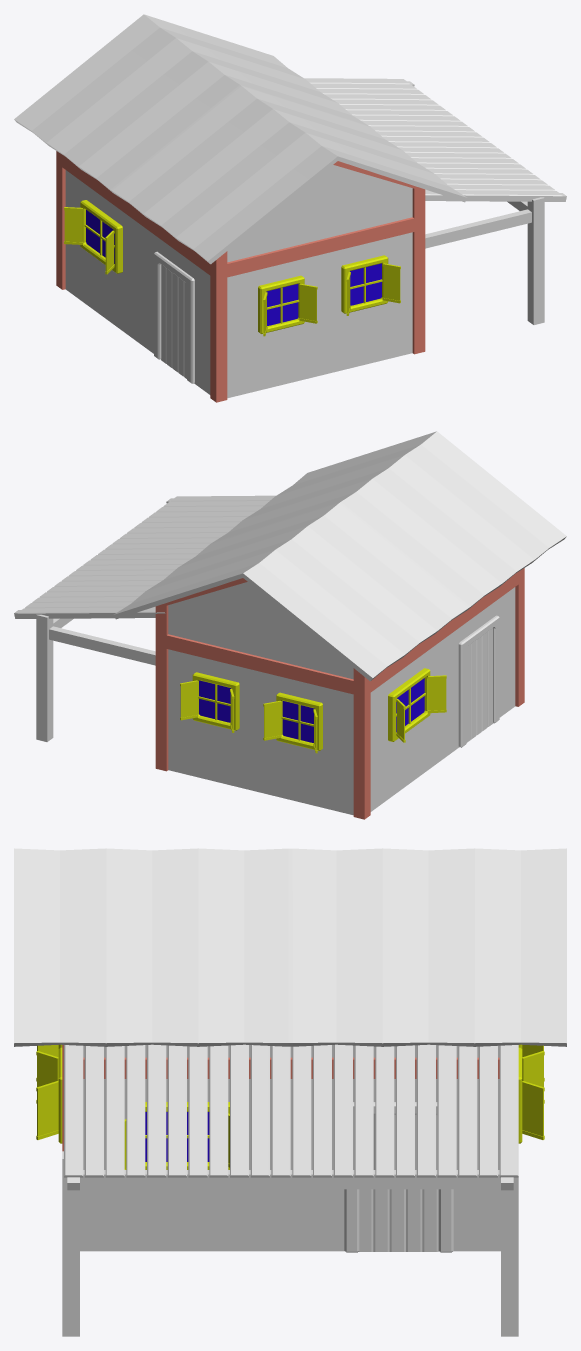
Rendered from Casa03.fbx.
The picture shows the model from 3 angles, top to bottom: view 1: azimuth 30°, elevation 25°; view 2: azimuth 150°, elevation 25°; view 3: azimuth 270°, elevation 25°; orthographic projection. The views are drawn at different scales.
Visible parts, largest first — view 1: Cube.014, Cube.013, Cube.019, Cube.021, Cube.022, Cube.026, Cube.025, Cube.016, Cube.018, Cube.020; view 2: Cube.014, Cube.013, Cube.019, Cube.021, Cube.022, Cube.026, Cube.025, Cube.015, Cube.018, Cube.020; view 3: Cube.014, Cube.019, Cube.013, Cube.023, Cube.017, Cube.026, Cube.016, Cube.015, Cube.024.
Part boxes in pixels (box(x1,y1,x2,y2)): Cube.014: box(14, 14, 467, 264); Cube.013: box(56, 151, 425, 402); Cube.019: box(304, 78, 562, 197); Cube.021: box(154, 251, 194, 383); Cube.022: box(64, 200, 122, 274); Cube.026: box(341, 255, 400, 315); Cube.025: box(258, 275, 317, 336); Cube.016: box(527, 197, 544, 324); Cube.018: box(425, 209, 531, 248); Cube.020: box(407, 81, 566, 201); Cube.014: box(113, 431, 566, 681); Cube.013: box(155, 568, 524, 819); Cube.019: box(17, 495, 275, 614); Cube.021: box(458, 615, 499, 747); Cube.022: box(388, 668, 446, 742); Cube.026: box(180, 672, 239, 732); Cube.025: box(263, 692, 322, 753); Cube.015: box(36, 614, 53, 741); Cube.018: box(49, 626, 155, 665); Cube.020: box(14, 498, 173, 618); Cube.014: box(14, 848, 566, 1046); Cube.019: box(64, 1044, 518, 1177); Cube.013: box(62, 1045, 500, 1251); Cube.023: box(344, 1102, 453, 1252); Cube.017: box(80, 1170, 500, 1189); Cube.026: box(36, 1047, 544, 1143); Cube.016: box(62, 1151, 79, 1336); Cube.015: box(501, 1177, 518, 1336); Cube.024: box(124, 1102, 229, 1169).
Bounding box in the file's own units: 686 × 405 × 610.
